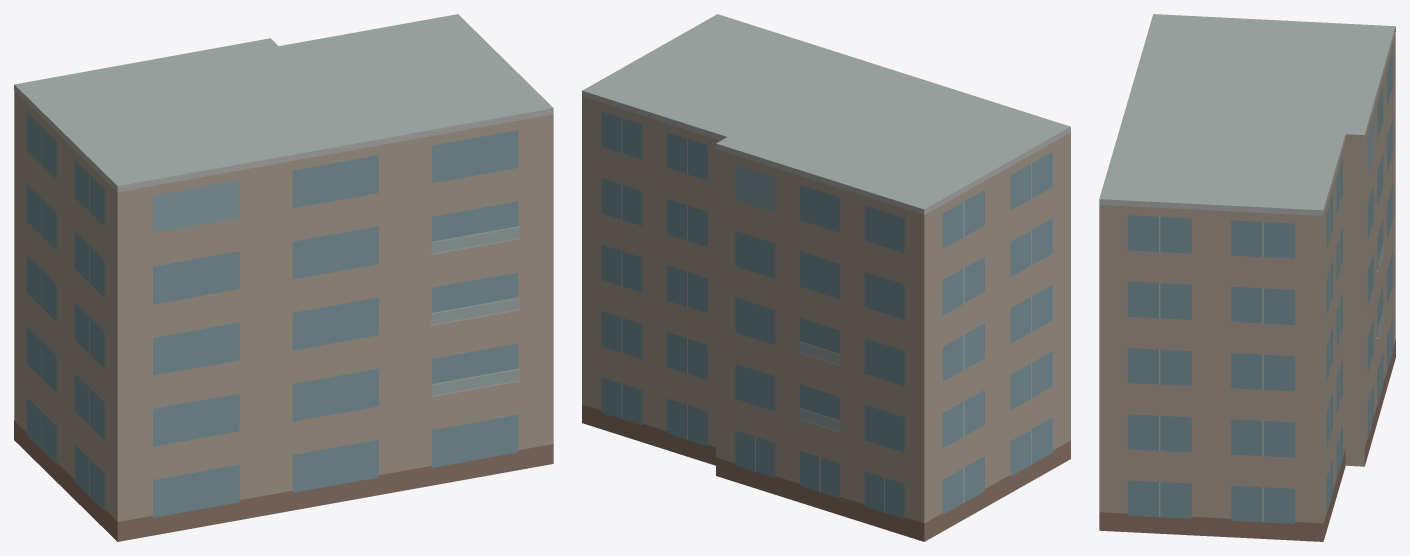
File: survey-upis-32596699.glb
3 renders of one model, left to right at view 1: azimuth 30°, elevation 25°; view 2: azimuth 150°, elevation 25°; view 3: azimuth 270°, elevation 25°, orthographic. The views are drawn at different scales.
Parts seen in each view (by area): view 1: survey-upis-32596699.tmp; view 2: survey-upis-32596699.tmp; view 3: survey-upis-32596699.tmp.
Boxes of the visible parts, x1,y1,x2,y2 form: survey-upis-32596699.tmp: [14, 14, 553, 541]; survey-upis-32596699.tmp: [582, 14, 1070, 541]; survey-upis-32596699.tmp: [1099, 14, 1395, 541].
Bounding box in the file's own units: 18.11 × 14.25 × 11.56.
